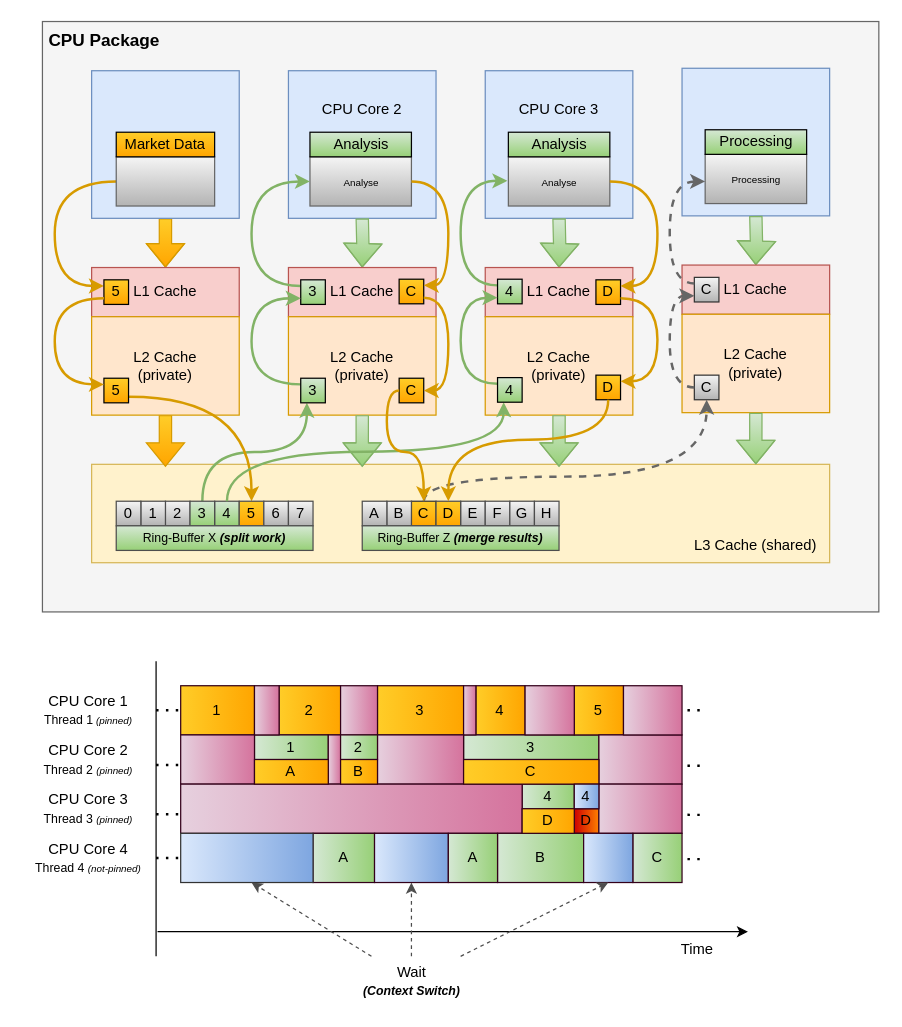
Some shapes in this 902 by 1027 pixel diagram are drawn without their labels. The shapes that lost their labels are listed below. From the top down, each one's box as (x1, y1, x2, y2) in pixels, then its label:
(90, 69, 239, 218): CPU Core 1
(681, 67, 830, 216): CPU Core 4
(115, 156, 215, 206): Receive Parse Notify
